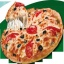olives: (36, 42, 44, 53), (41, 28, 48, 36), (36, 37, 42, 45), (16, 44, 23, 50), (21, 33, 26, 41), (23, 38, 28, 45), (43, 17, 49, 21)
pepperoni: (23, 40, 36, 58), (22, 25, 41, 35), (5, 31, 20, 42)
pizza: (6, 5, 61, 59)
